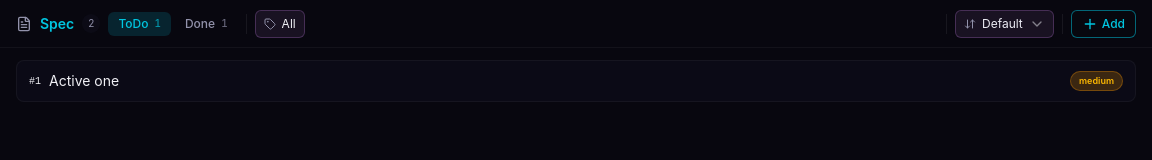
Test: SpecsBoard ToDo / Done tabs › clicking the ToDo tab returns to active specs and hides Done
This screenshot has width=1152, height=160.
What coordinates should you click on to do the following:
click the tab with test id "specs-tab-done"
I would click on:
 (206, 24)
Its box is [175,12,238,36].
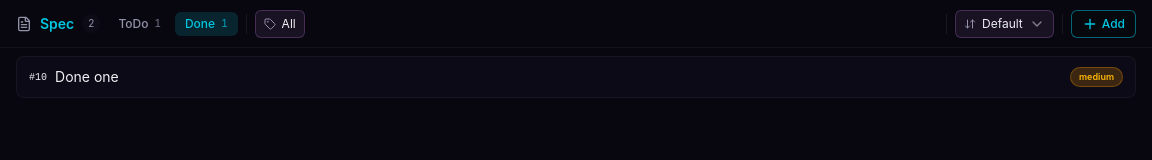
What coordinates should you click on to do the following:
click the tab with test id "specs-tab-todo"
I would click on:
 (140, 24)
Its box is [108,12,171,36].
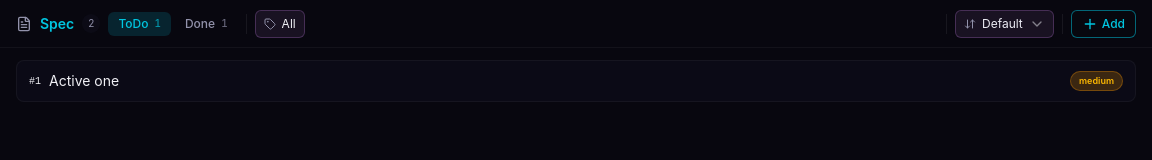
expect the text "Active one" is shown: met, box [49,72,119,89]
expect the button "Done one" is gone: met
